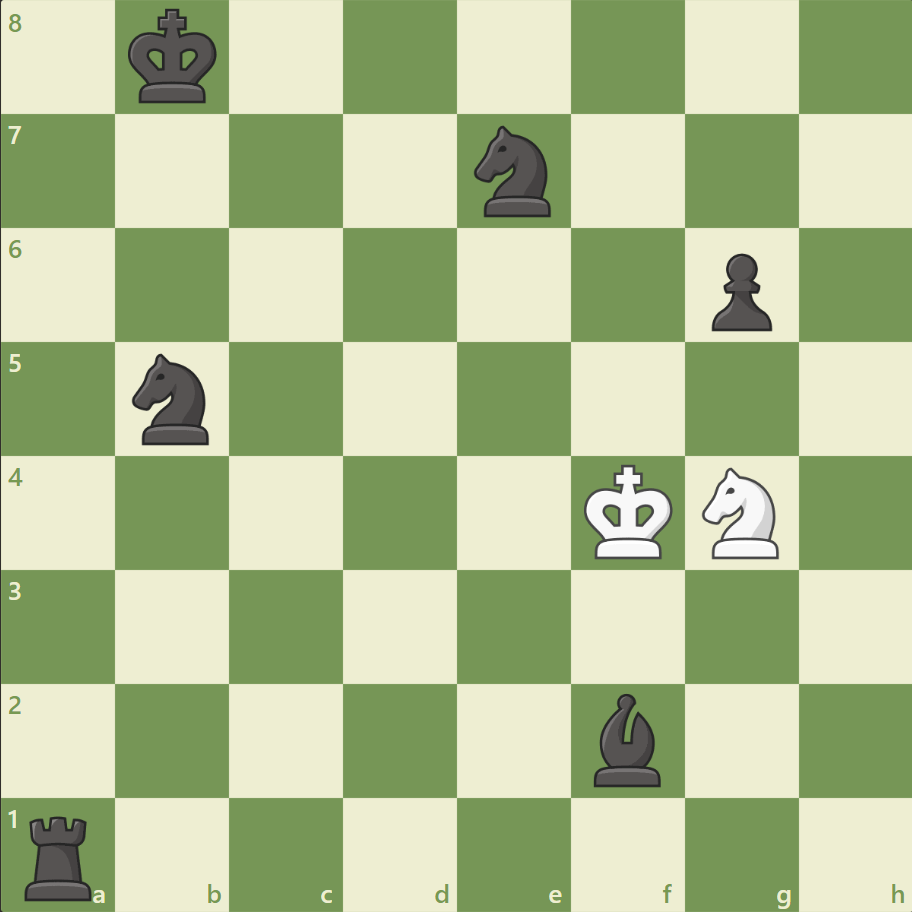K: (579, 458, 679, 566)
N: (692, 461, 789, 564)
b: (585, 687, 669, 790)
k: (124, 4, 224, 112)
n: (124, 348, 222, 450), (465, 121, 562, 223)
p: (701, 246, 776, 337)
r: (19, 806, 102, 904)
